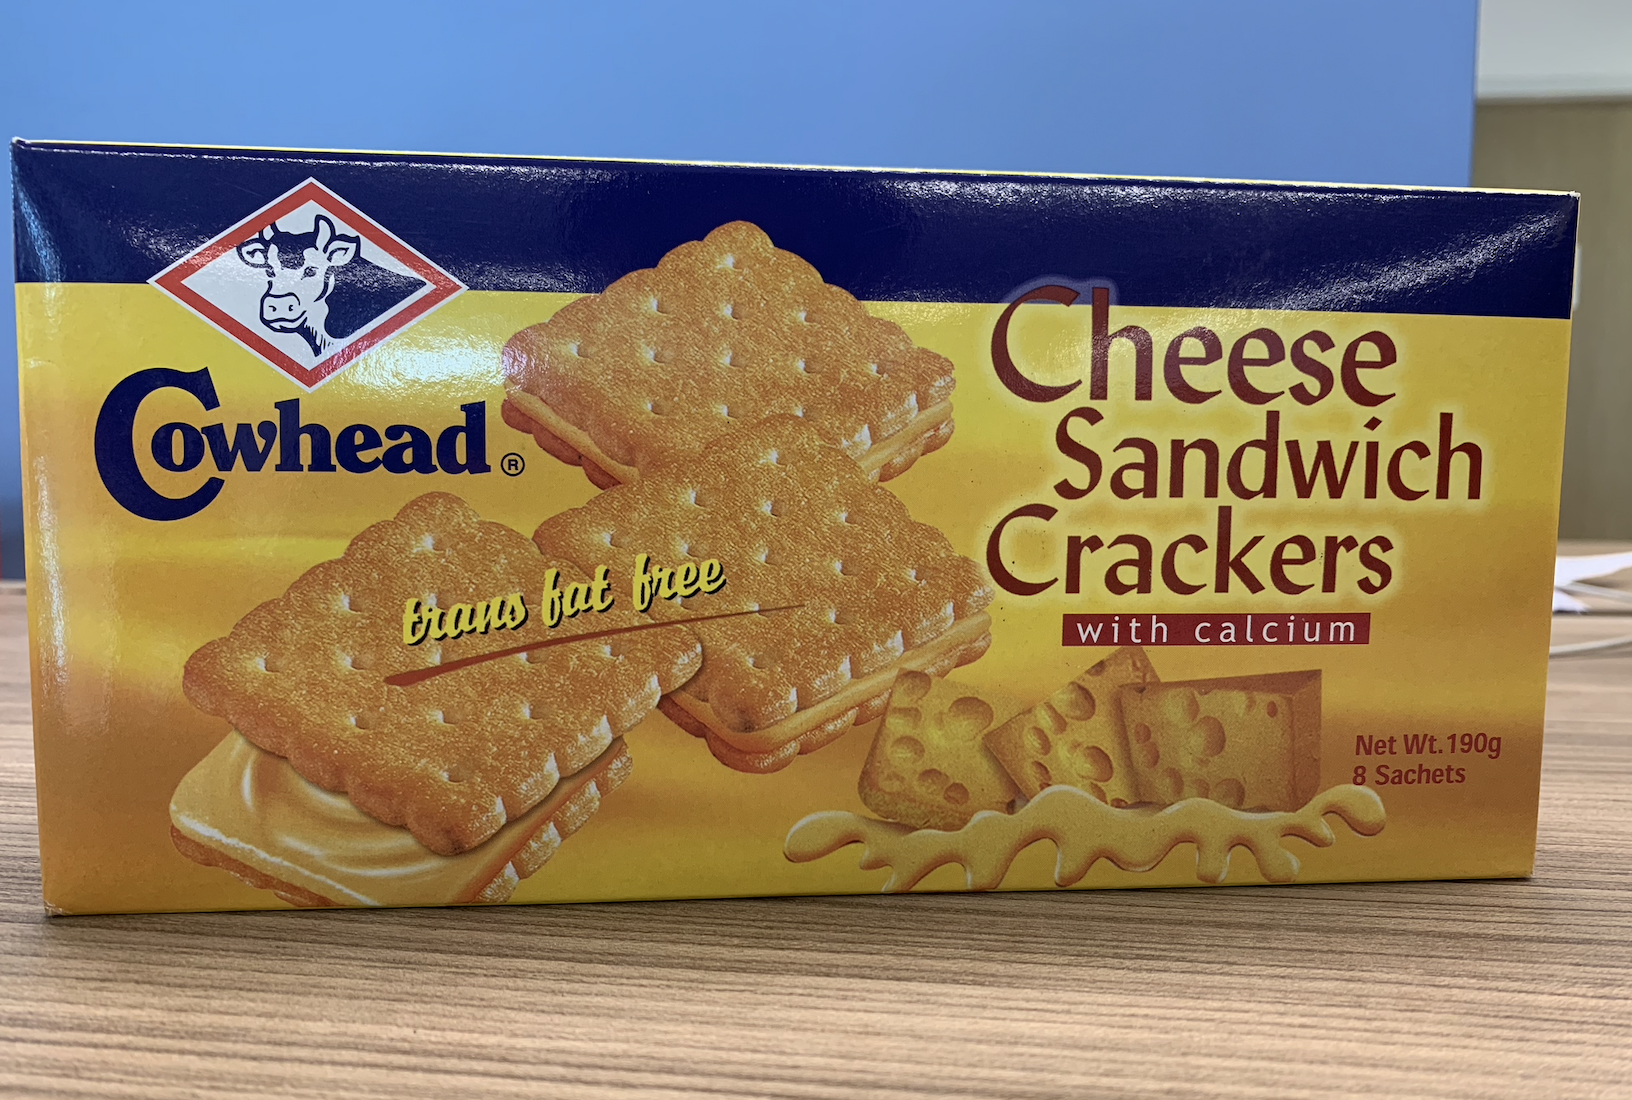crackers_100g-199g: (90, 192, 1525, 852)
